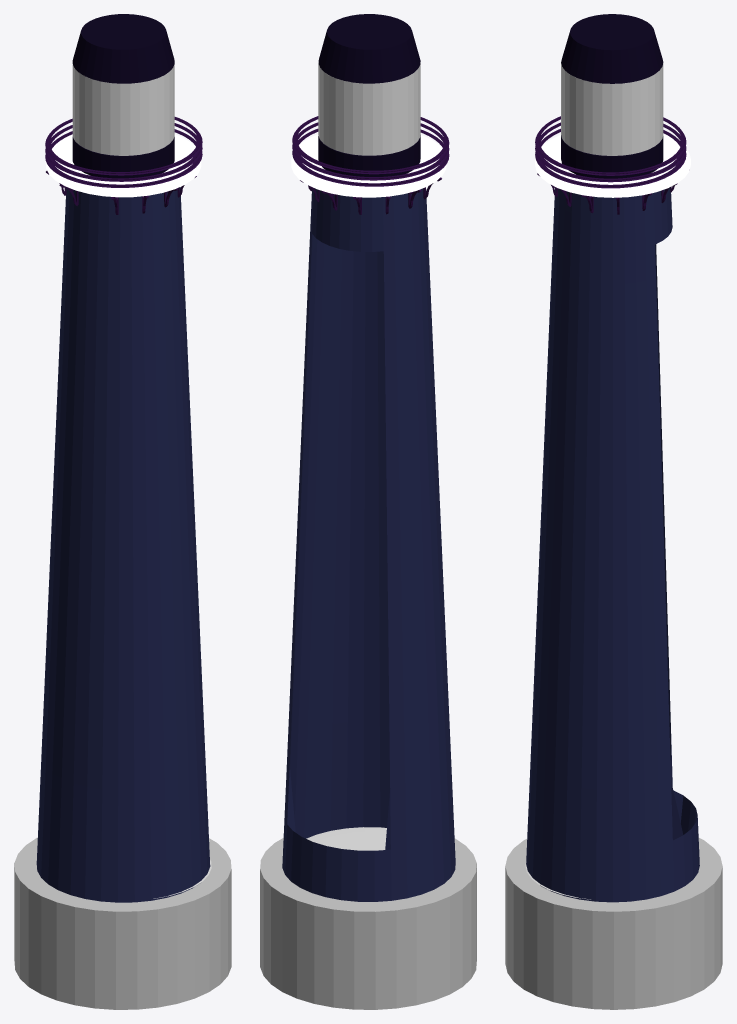
The model's file is Phare.fbx.
The picture shows the model from 3 angles, left to right: view 1: azimuth 30°, elevation 25°; view 2: azimuth 150°, elevation 25°; view 3: azimuth 270°, elevation 25°; orthographic projection.
Visible parts, largest first — view 1: Corps, Base, Lumière, Capuchon, Grille, Corps.001, Tête, ornement; view 2: Corps, Base, Lumière, Capuchon, Corps.001, Grille, Tête, Sphère, ornement; view 3: Corps, Base, Lumière, Capuchon, Grille, Corps.001, Tête, ornement.
Boxes of the visible parts, x1,y1,x2,y2 form: Corps: (36,187,210,902); Base: (14,837,231,1009); Lumière: (72,64,174,155); Capuchon: (72,14,174,83); Grille: (45,117,202,187); Corps.001: (45,134,201,197); Tête: (72,137,174,178); ornement: (46,171,196,214); Corps: (282,188,455,901); Base: (260,838,476,1009); Lumière: (318,59,420,155); Capuchon: (318,14,420,83); Corps.001: (291,134,446,197); Grille: (292,116,449,186); Tête: (318,135,420,180); Sphère: (306,827,386,850); ornement: (300,177,441,214); Corps: (526,187,699,902); Base: (505,838,722,1009); Lumière: (561,63,663,155); Capuchon: (561,14,663,83); Grille: (535,116,686,188); Corps.001: (535,134,690,197); Tête: (561,135,663,178); ornement: (537,173,677,214).
Size of the model in its own units: 2952 by 14017 by 2952.
